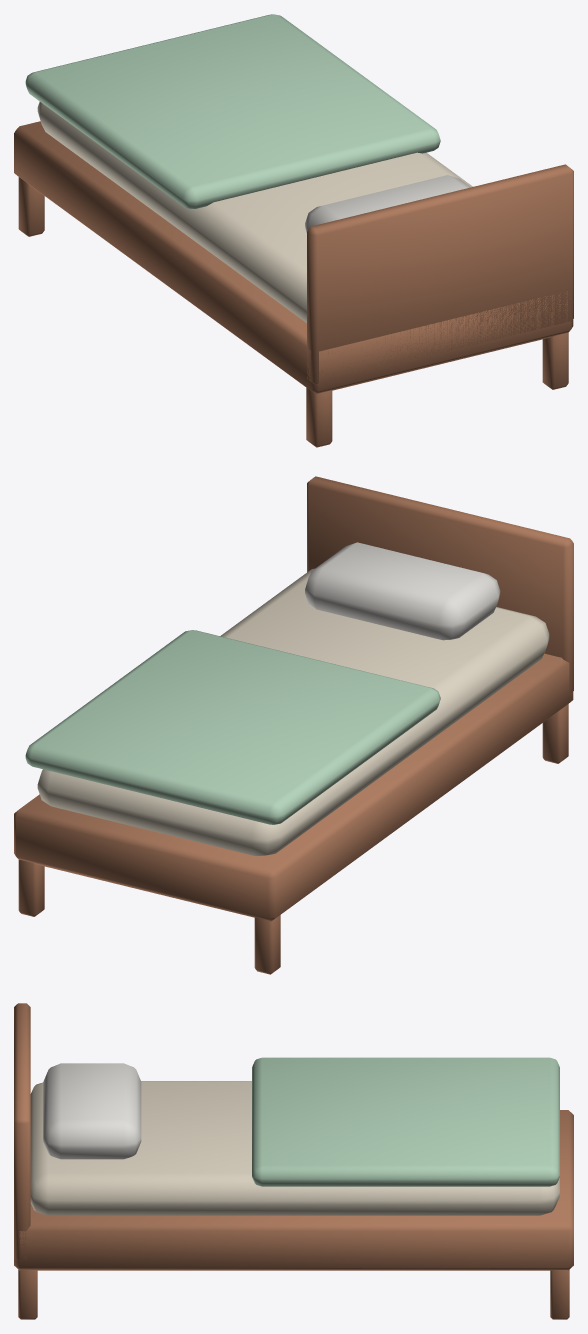
Rendered from bed_servant.glb.
3 renders of one model, top to bottom at view 1: azimuth 30°, elevation 25°; view 2: azimuth 150°, elevation 25°; view 3: azimuth 270°, elevation 25°, orthographic. The views are drawn at different scales.
Parts seen in each view (by area): view 1: bed_servant; view 2: bed_servant; view 3: bed_servant.
Boxes of the visible parts, <box> form: bed_servant: <box>14,14,573,447</box>; bed_servant: <box>14,476,573,974</box>; bed_servant: <box>14,1003,573,1319</box>.
Size of what is drawn, in the model's own units: 1 by 0.8 by 2.
